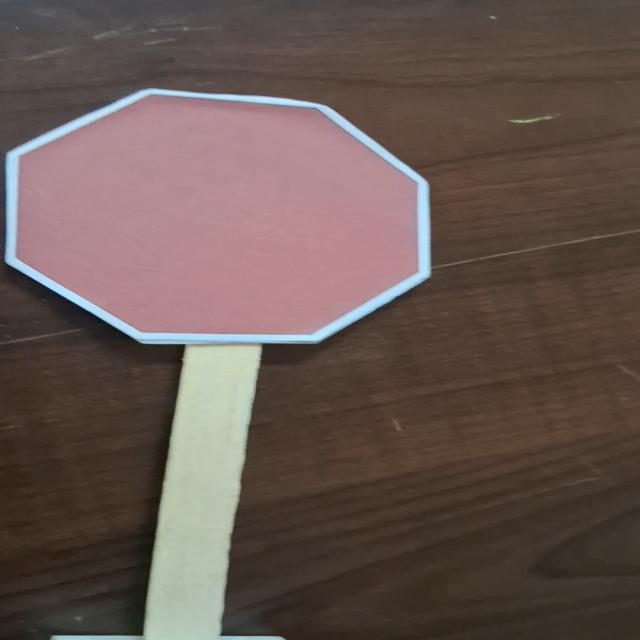Stop: (0, 80, 439, 354)
